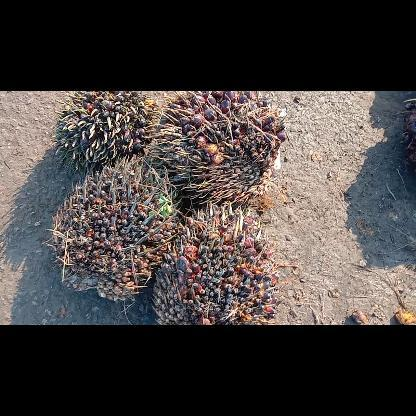TBS abnormal: (49, 152, 179, 302), (152, 198, 286, 324), (52, 91, 158, 177)
TBS masak: (145, 91, 291, 211)
